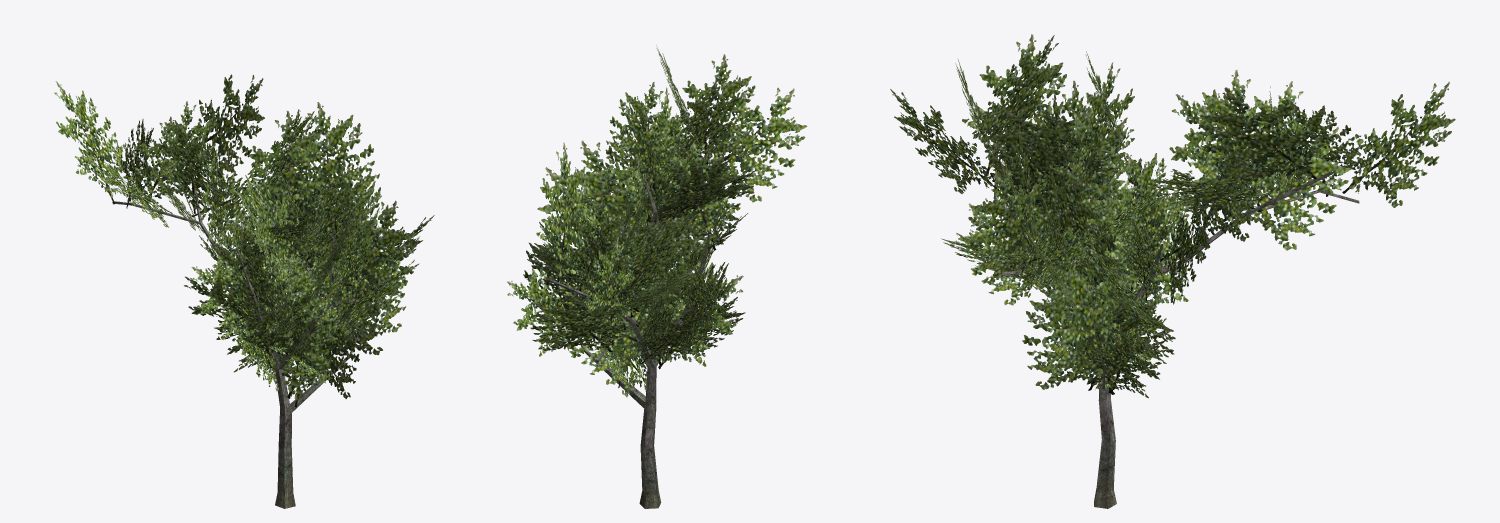
The model's file is tree01.fbx.
The picture shows the model from 3 angles, left to right: view 1: azimuth 30°, elevation 25°; view 2: azimuth 150°, elevation 25°; view 3: azimuth 270°, elevation 25°; orthographic projection. The views are drawn at different scales.
Parts seen in each view (by area): view 1: treee01; view 2: treee01; view 3: treee01.
Part boxes in pixels (x1=…): treee01: x1=54, y1=74, x2=434, y2=508; treee01: x1=507, y1=46, x2=807, y2=508; treee01: x1=890, y1=34, x2=1455, y2=508.
Bounding box in the file's own units: 3821 × 5449 × 6175.
